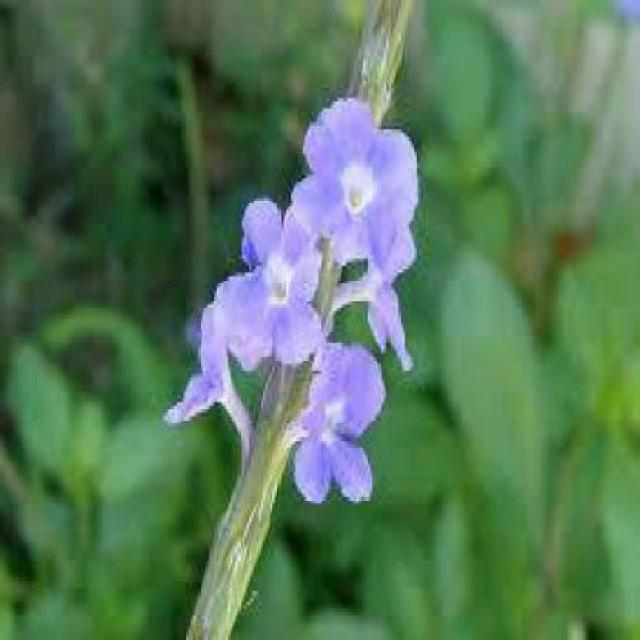flower: (295, 89, 436, 306), (192, 183, 350, 372), (286, 328, 394, 526)
